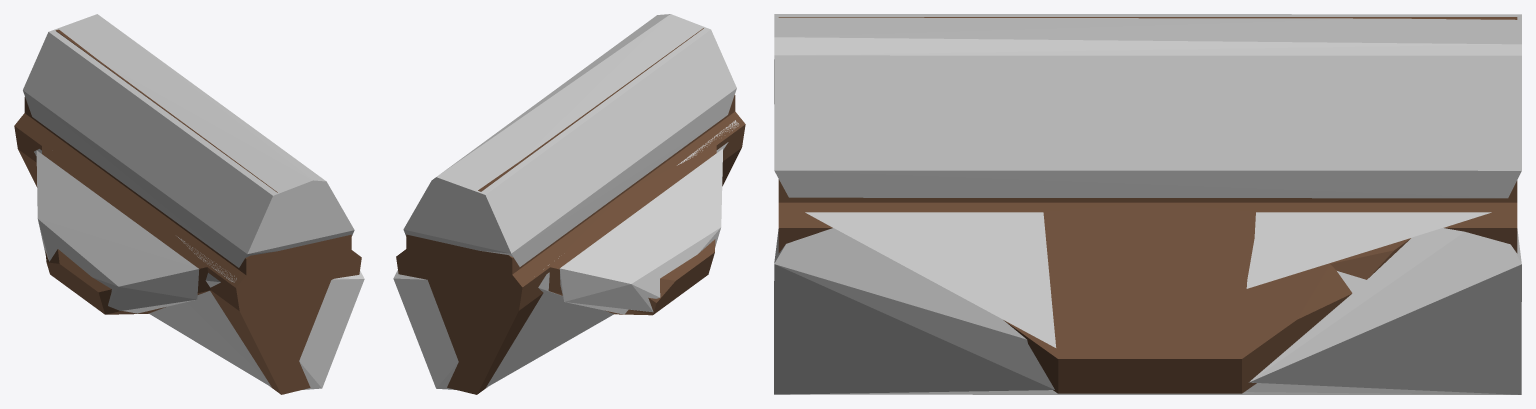
File: SM_Bld_Roof_Cap_Straight_Wood_Half_01.fbx
3 renders of one model, left to right at view 1: azimuth 30°, elevation 25°; view 2: azimuth 150°, elevation 25°; view 3: azimuth 270°, elevation 25°, orthographic. The views are drawn at different scales.
Parts seen in each view (by area): view 1: SM_Bld_Roof_Cap_Straight_Wood_Half_01_ConvexHulls, SM_Bld_Roof_Cap_Straight_Wood_Half_01; view 2: SM_Bld_Roof_Cap_Straight_Wood_Half_01_ConvexHulls, SM_Bld_Roof_Cap_Straight_Wood_Half_01; view 3: SM_Bld_Roof_Cap_Straight_Wood_Half_01_ConvexHulls, SM_Bld_Roof_Cap_Straight_Wood_Half_01.
Boxes of the visible parts, <box> form: SM_Bld_Roof_Cap_Straight_Wood_Half_01_ConvexHulls: <box>23,14,364,389</box>; SM_Bld_Roof_Cap_Straight_Wood_Half_01: <box>14,29,361,394</box>; SM_Bld_Roof_Cap_Straight_Wood_Half_01_ConvexHulls: <box>393,14,738,389</box>; SM_Bld_Roof_Cap_Straight_Wood_Half_01: <box>396,28,745,394</box>; SM_Bld_Roof_Cap_Straight_Wood_Half_01_ConvexHulls: <box>774,14,1521,394</box>; SM_Bld_Roof_Cap_Straight_Wood_Half_01: <box>778,17,1517,393</box>.
Size of the model in its own units: 75.76 by 127 by 65.45.
2 materials, 1 textured.
